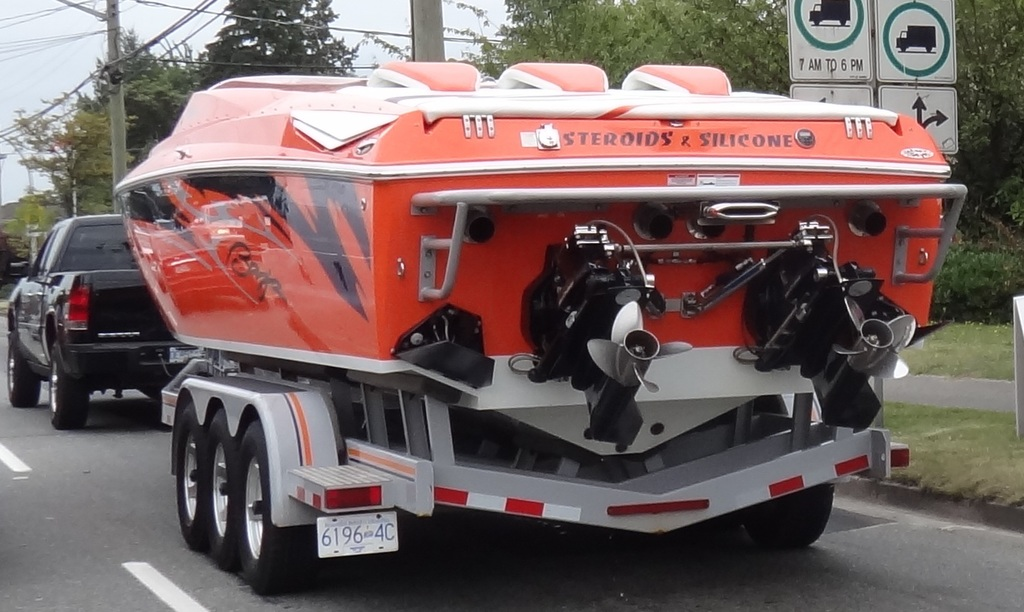Car: (12, 184, 191, 435)
